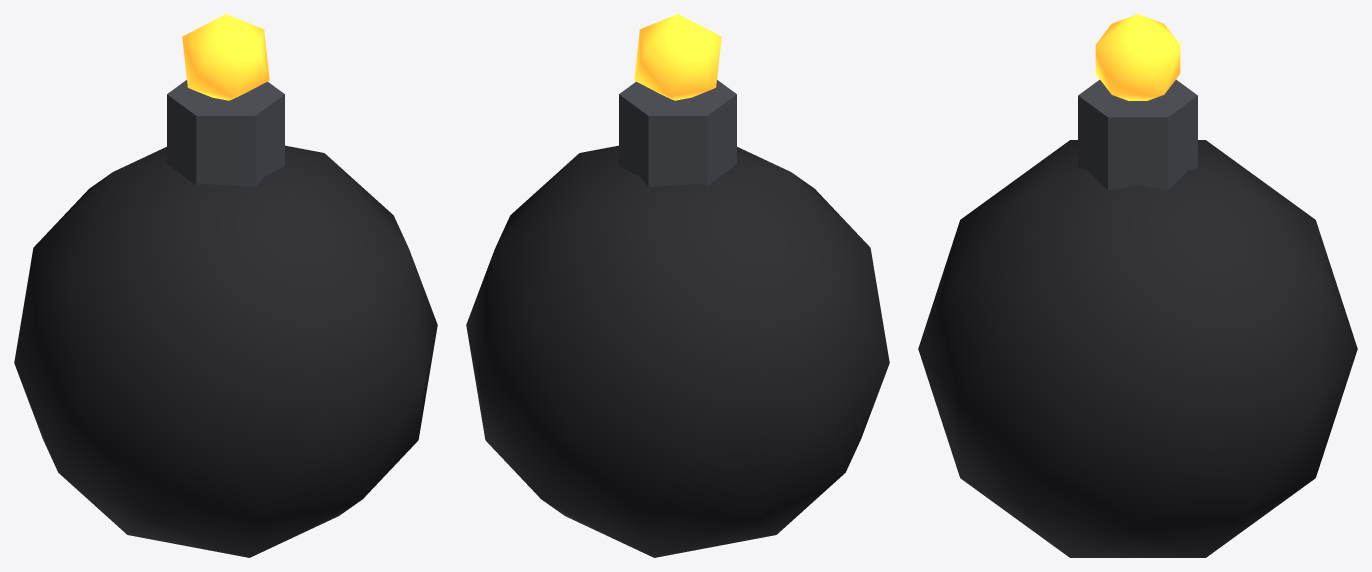
The model's file is p_bomb.glb.
3 views of the same model, side by side, from view 1: azimuth 30°, elevation 25°; view 2: azimuth 150°, elevation 25°; view 3: azimuth 270°, elevation 25° (orthographic).
Parts seen in each view (by area): view 1: Bomb; view 2: Bomb; view 3: Bomb.
Boxes of the visible parts, x1,y1,x2,y2 form: Bomb: (14,14,437,557); Bomb: (466,14,889,557); Bomb: (918,14,1357,557).
Size of the model in its own units: 0.4185 by 0.59 by 0.44.
